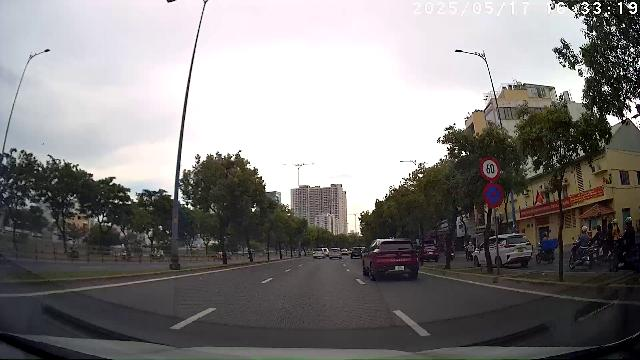127-toc-do-toi-da-60: (480, 157, 500, 181)
130-cam-dung-va-do-xe: (483, 183, 504, 207)
